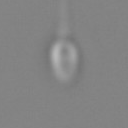normal: (50, 1, 90, 35)
